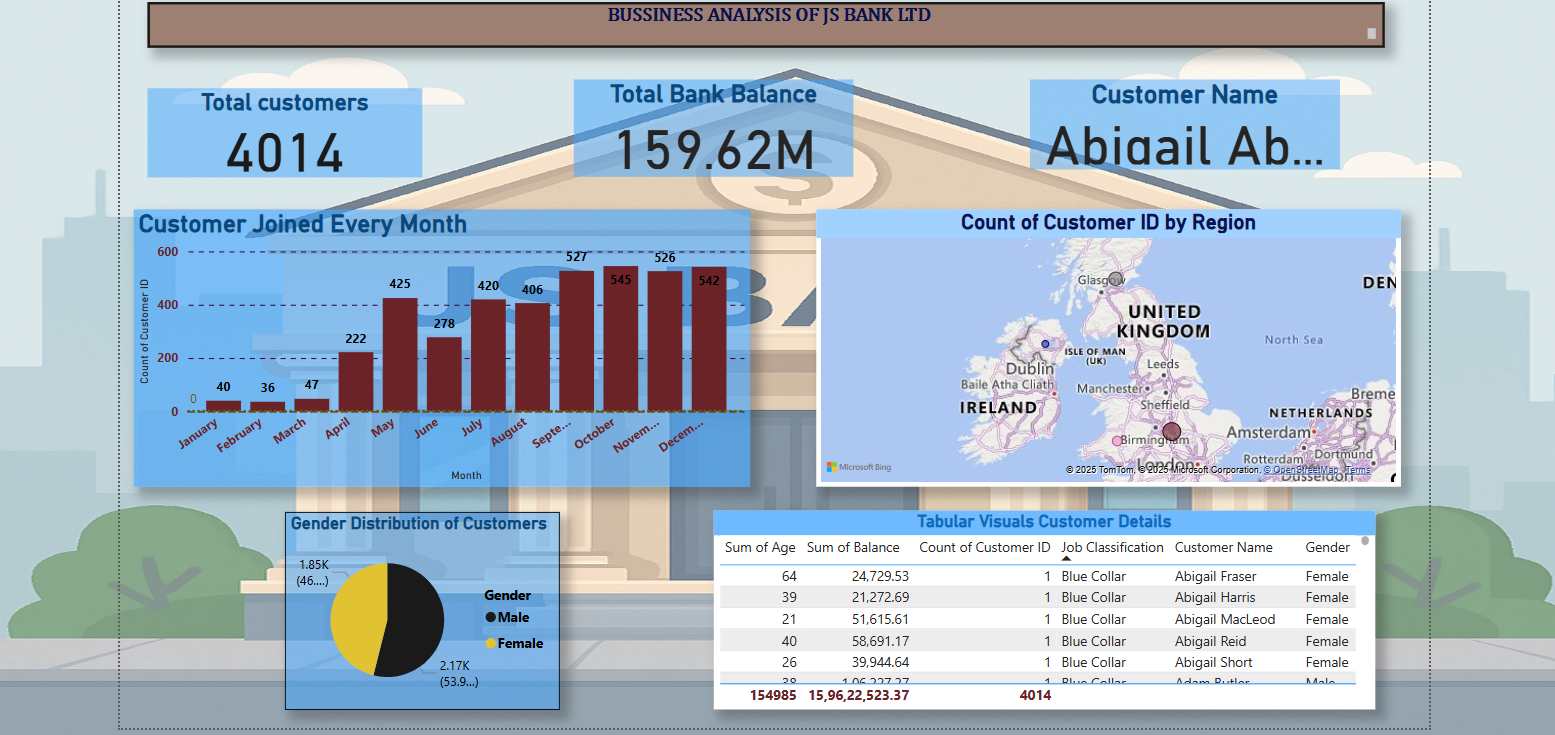

Layout of this report page (visuals, bound fields, positions):
{"tool":"powerbi","page":{"name":"Page 1","canvas":[1280,720],"ordinal":0},"visuals":[{"type":"card","title":"Total customers","fields":{"Values":["Bank Data.Customer ID"]},"box":[26.9,94.2,269,86.8],"z":0},{"type":"textbox","title":"BUSSINESS ANALYSIS OF JS BANK LTD","box":[27.4,10.1,1210.5,44.7],"z":1},{"type":"card","title":"Total Bank Balance","fields":{"Values":["Bank Data.Balance"]},"box":[443.9,85.6,273.9,95.4],"z":2},{"type":"card","title":"Customer Name","fields":{"Values":["Bank Data.Customer Name"]},"box":[890.2,85.6,303.3,88],"z":3},{"type":"columnChart","title":"Customer Joined Every Month","fields":{"Category":["Bank Data.Date Joined.Variation.Date Hierarchy.Month"],"Y":["Bank Data.Customer ID"]},"box":[13.5,212.8,602.9,271.5],"z":4},{"type":"map","fields":{"Category":["Bank Data.Region"],"Size":["Bank Data.Customer ID"]},"box":[681.1,212.8,572.3,271.5],"z":5},{"type":"pieChart","title":"Gender Distribution of Customers","fields":{"Category":["Bank Data.Gender"],"Y":["Bank Data.Customer ID"]},"box":[161.4,508.7,269,193.2],"z":6},{"type":"tableEx","title":"Tabular Visuals Customer Details","fields":{"Values":["Bank Data.Age","Bank Data.Balance","Bank Data.Customer ID","Bank Data.Job Classification","Bank Data.Customer Name","Bank Data.Gender"]},"box":[580.8,507.5,646.9,194.4],"z":7}]}

Visuals, with their boxes on the page's 1280x720 design canvas (x1, y1, x2, y2). These are canvas units, not pixel positions in the 1555x735 screenshot, which may show the page scaled, cropped or inside an application window:
"Total customers" card: (x1=27, y1=94, x2=296, y2=181)
"BUSSINESS ANALYSIS OF JS BANK LTD" textbox: (x1=27, y1=10, x2=1238, y2=55)
"Total Bank Balance" card: (x1=444, y1=86, x2=718, y2=181)
"Customer Name" card: (x1=890, y1=86, x2=1194, y2=174)
"Customer Joined Every Month" columnChart: (x1=14, y1=213, x2=616, y2=484)
map - Bank Data.Region x Bank Data.Customer ID: (x1=681, y1=213, x2=1253, y2=484)
"Gender Distribution of Customers" pieChart: (x1=161, y1=509, x2=430, y2=702)
"Tabular Visuals Customer Details" tableEx: (x1=581, y1=508, x2=1228, y2=702)
